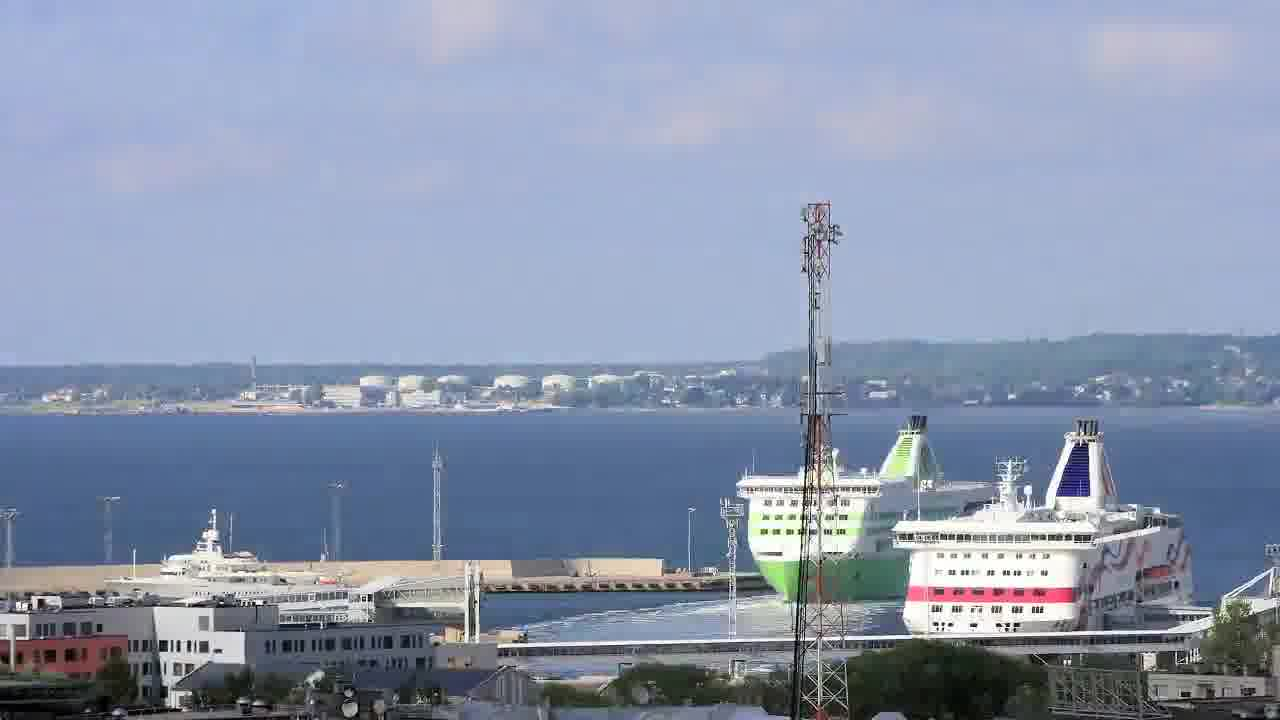type-3: (868, 415, 1225, 638), (702, 420, 959, 616), (84, 511, 353, 609)
